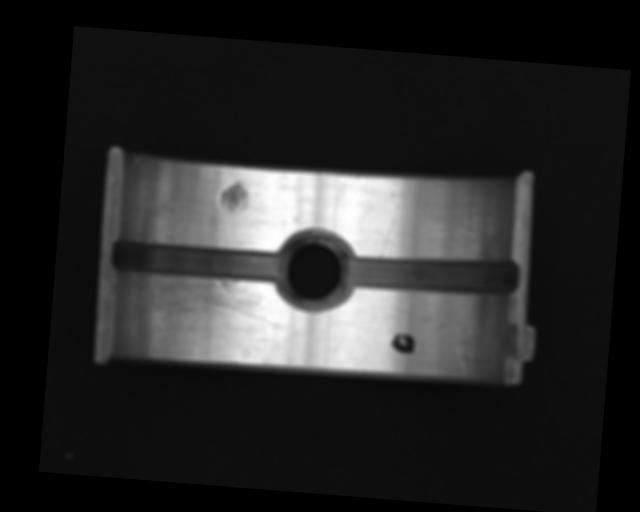blot: (389, 332, 416, 355)
bruise: (218, 181, 249, 215)
gap: (340, 246, 521, 300), (110, 236, 285, 285)
hole: (272, 226, 354, 313)
nick: (380, 203, 399, 259)
scratch: (114, 269, 286, 343)
